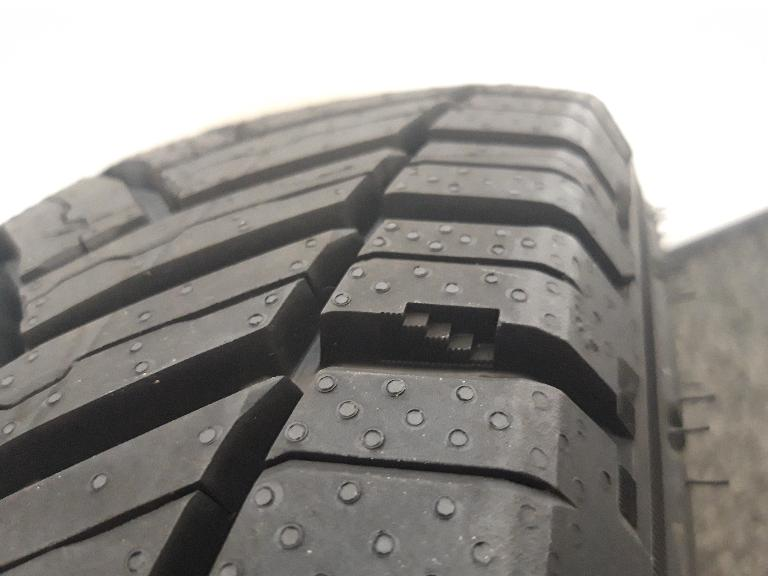temoin:100: (378, 299, 508, 372)
